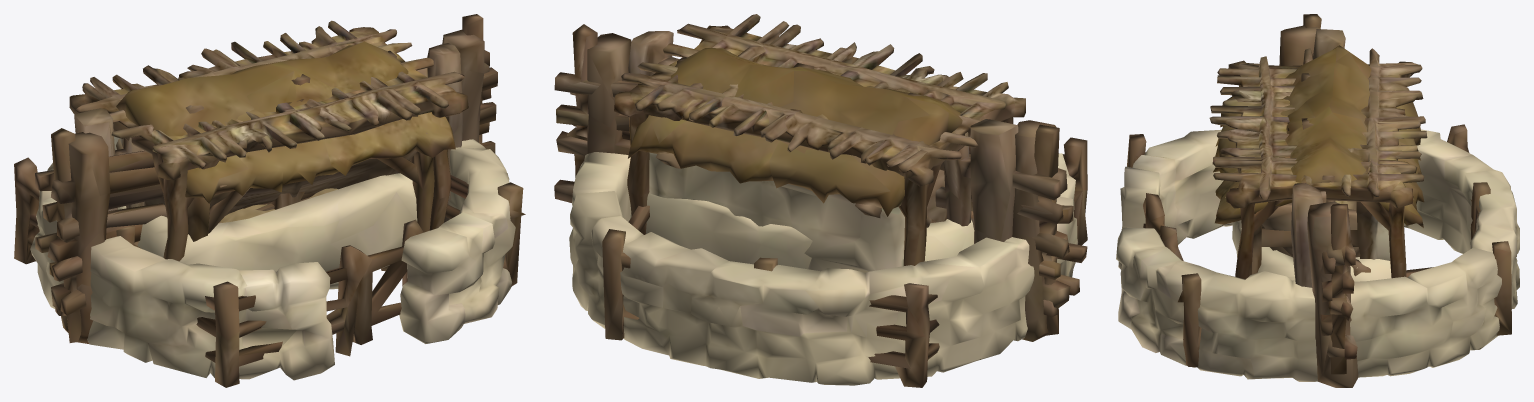
The model's file is pastoril.glb.
3 renders of one model, left to right at view 1: azimuth 30°, elevation 25°; view 2: azimuth 150°, elevation 25°; view 3: azimuth 270°, elevation 25°, orthographic. The views are drawn at different scales.
Visible parts, largest first — view 1: Muro_Curvo, Abrigo_Palha, Mesa_Coberta, Cocho, Curral, Cerca_Reta, Cerca_Longa, Porteira, Manjedoura; view 2: Muro_Curvo, Abrigo_Palha, Mesa_Coberta, Cerca_Longa, Curral, Cerca_Reta, Cocho, Porteira, Manjedoura; view 3: Muro_Curvo, Mesa_Coberta, Abrigo_Palha, Curral, Cerca_Reta, Cerca_Longa, Porteira, Cocho, Manjedoura.
Part boxes in pixels (bbox=[...]): Muro_Curvo: bbox=[30, 139, 515, 380]; Abrigo_Palha: bbox=[114, 41, 455, 289]; Mesa_Coberta: bbox=[69, 20, 468, 261]; Cocho: bbox=[118, 173, 417, 271]; Curral: bbox=[14, 157, 525, 387]; Cerca_Reta: bbox=[47, 29, 489, 344]; Cerca_Longa: bbox=[35, 14, 497, 342]; Porteira: bbox=[74, 43, 463, 222]; Manjedoura: bbox=[116, 132, 427, 271]; Muro_Curvo: bbox=[569, 152, 1077, 385]; Abrigo_Palha: bbox=[628, 48, 962, 272]; Mesa_Coberta: bbox=[614, 14, 1025, 265]; Cerca_Longa: bbox=[554, 24, 1087, 335]; Curral: bbox=[602, 137, 1087, 387]; Cerca_Reta: bbox=[567, 33, 1070, 341]; Cocho: bbox=[630, 192, 974, 269]; Porteira: bbox=[628, 31, 1018, 243]; Manjedoura: bbox=[656, 153, 946, 227]; Muro_Curvo: bbox=[1116, 129, 1519, 381]; Mesa_Coberta: bbox=[1209, 48, 1427, 279]; Abrigo_Palha: bbox=[1213, 45, 1424, 274]; Curral: bbox=[1127, 124, 1511, 367]; Cerca_Reta: bbox=[1279, 25, 1358, 387]; Cerca_Longa: bbox=[1301, 14, 1357, 374]; Porteira: bbox=[1291, 29, 1345, 287]; Cocho: bbox=[1232, 220, 1391, 281]; Manjedoura: bbox=[1225, 197, 1359, 257].
Size of the model in its own units: 3.28 by 1.44 by 2.68.
1 material, 1 textured.
